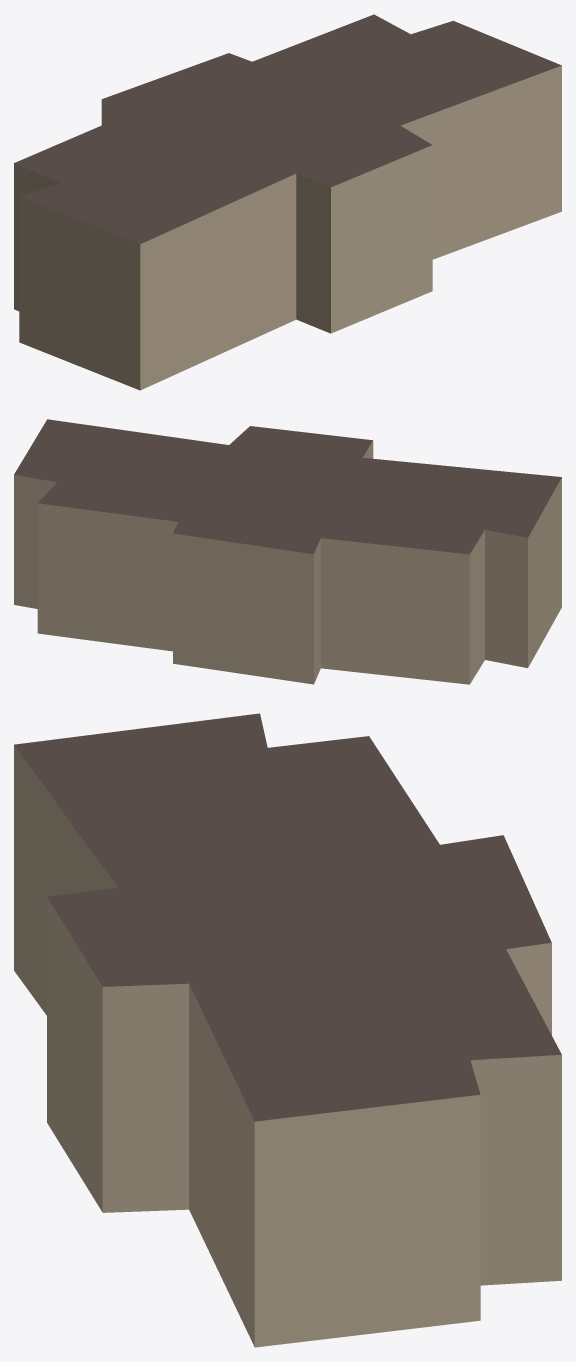
The picture shows the model from 3 angles, top to bottom: view 1: azimuth 30°, elevation 25°; view 2: azimuth 150°, elevation 25°; view 3: azimuth 270°, elevation 25°; orthographic projection. The views are drawn at different scales.
Visible parts, largest first — view 1: HP-w1512911266; view 2: HP-w1512911266; view 3: HP-w1512911266.
Part boxes in pixels (<box>): HP-w1512911266: <box>14,14,561,390</box>; HP-w1512911266: <box>14,419,561,684</box>; HP-w1512911266: <box>14,713,561,1347</box>.
Bounding box in the file's own units: 34.86 × 9 × 19.78.
